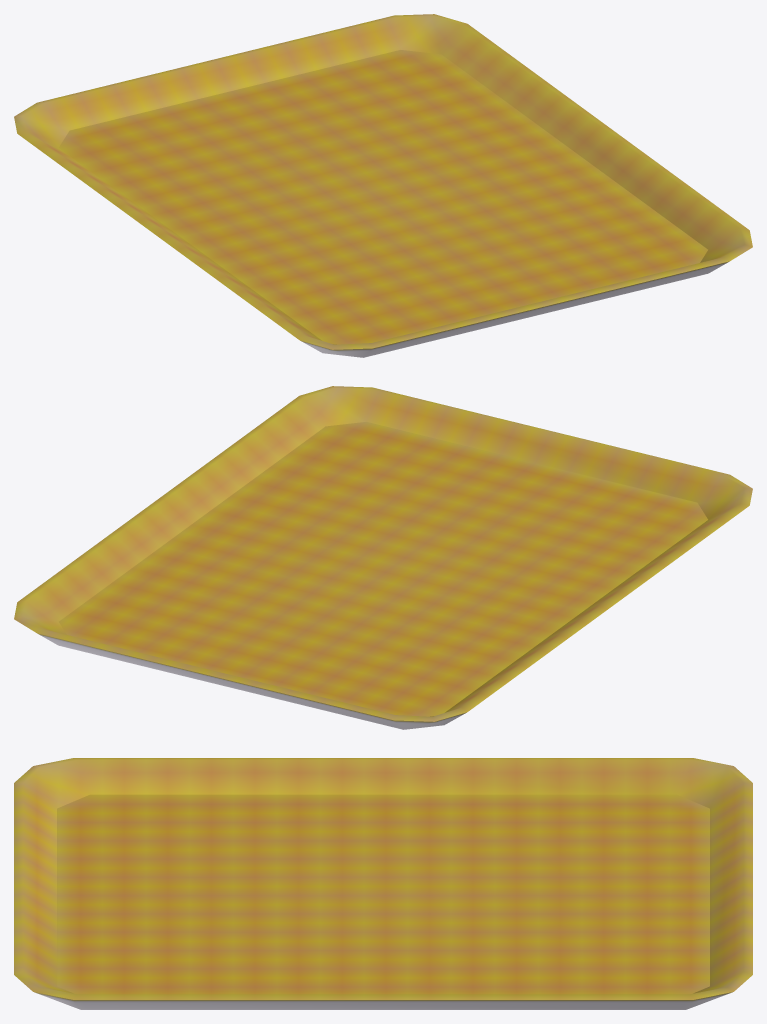
The model's file is jsf_Tray_08.fbx.
The picture shows the model from 3 angles, top to bottom: view 1: azimuth 30°, elevation 25°; view 2: azimuth 150°, elevation 25°; view 3: azimuth 270°, elevation 25°; orthographic projection. The views are drawn at different scales.
Parts seen in each view (by area): view 1: jsf_Tray_08; view 2: jsf_Tray_08; view 3: jsf_Tray_08.
Boxes of the visible parts, box(x1,y1,x2,y2) form: jsf_Tray_08: box(14, 14, 752, 357); jsf_Tray_08: box(14, 386, 752, 729); jsf_Tray_08: box(14, 758, 752, 1009).
Bounding box in the file's own units: 21.76 × 1.1 × 28.1.
